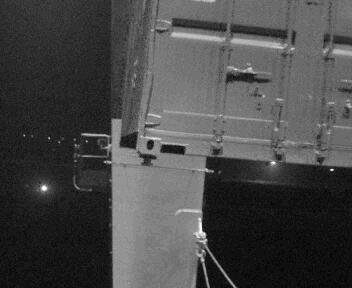twist_lock_1: (135, 151, 160, 172)
